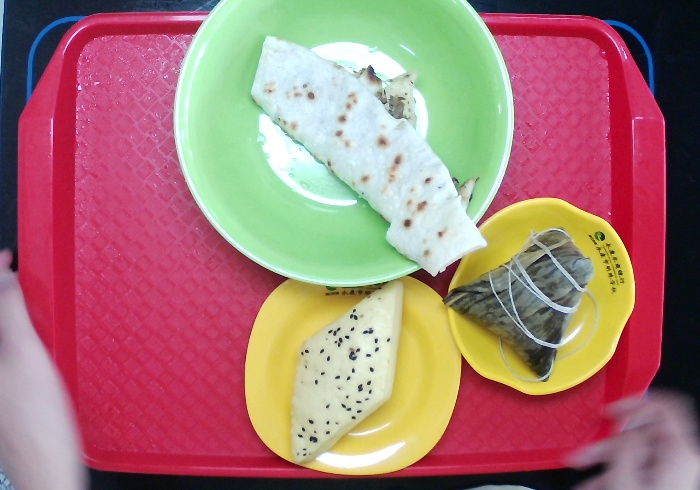YKMZ-Huang_Se_Ao_Bian_Wan: (449, 198, 640, 399)
YKMZ-Huang_Se_Fang_Die: (242, 265, 462, 478)
YKMZ-Lv_Se_Tang_Wan: (168, 1, 516, 287)
